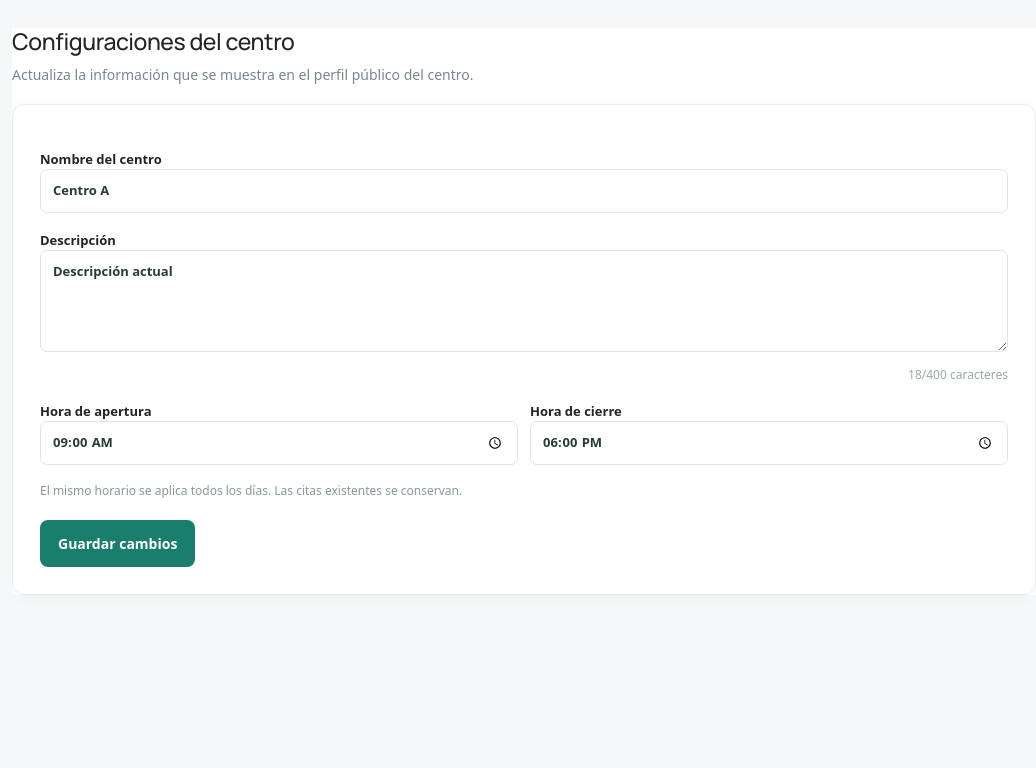
edits the public profile and reports the saved center to the workspace
Expected: the time field labelled "Hora de apertura" holds "09:00", [40,421,518,465]
Replace the text in the field labelled "Nombre del centro" with "Nuevo nombre" at (524, 191), box [40,169,1008,213]
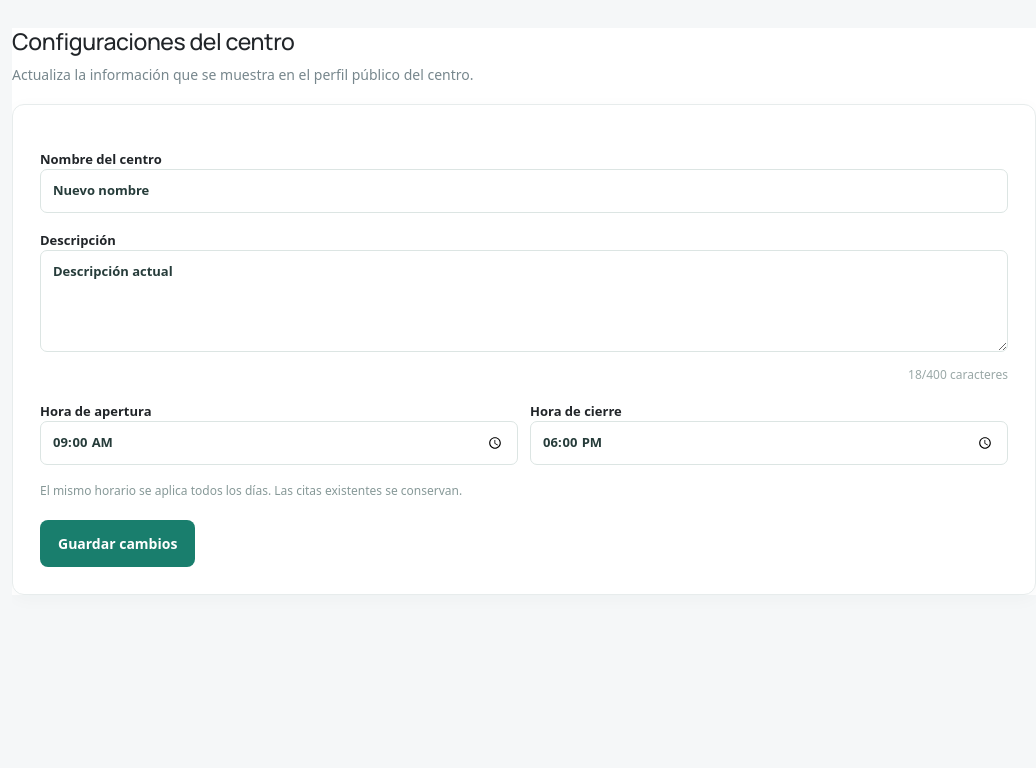
Replace the text in the text box labelled "Descripción" with "Nueva descripción" at (524, 301), box [40,250,1008,352]
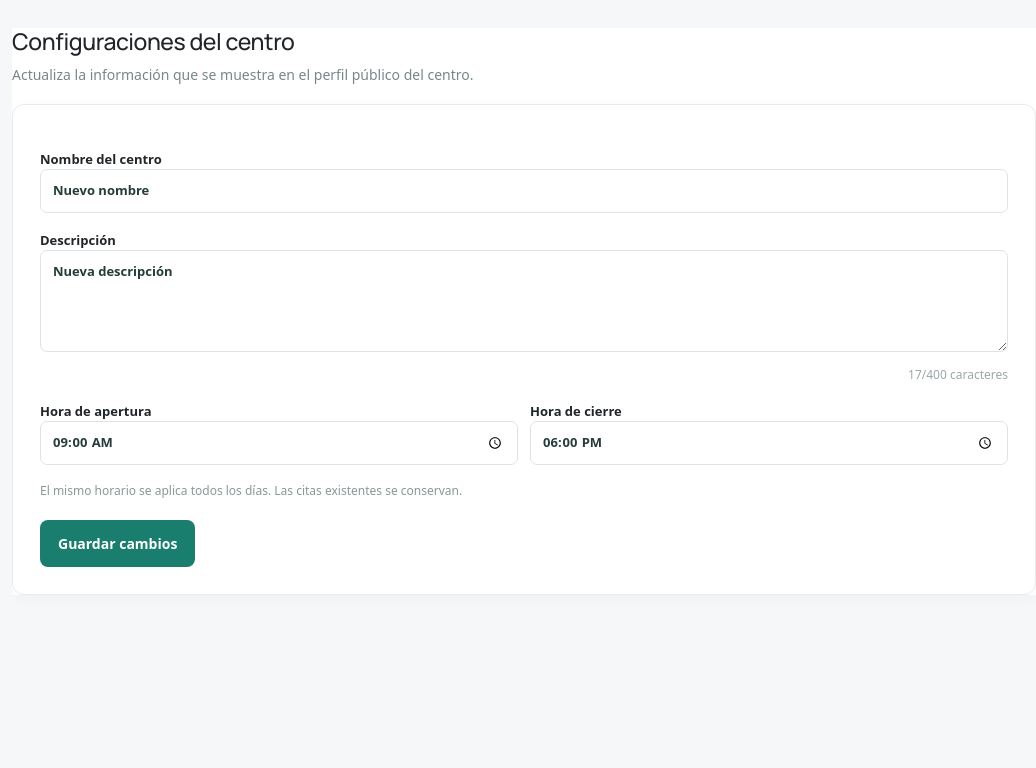
Replace the text in the time field labelled "Hora de apertura" with "08:30" at (279, 443), box [40,421,518,465]
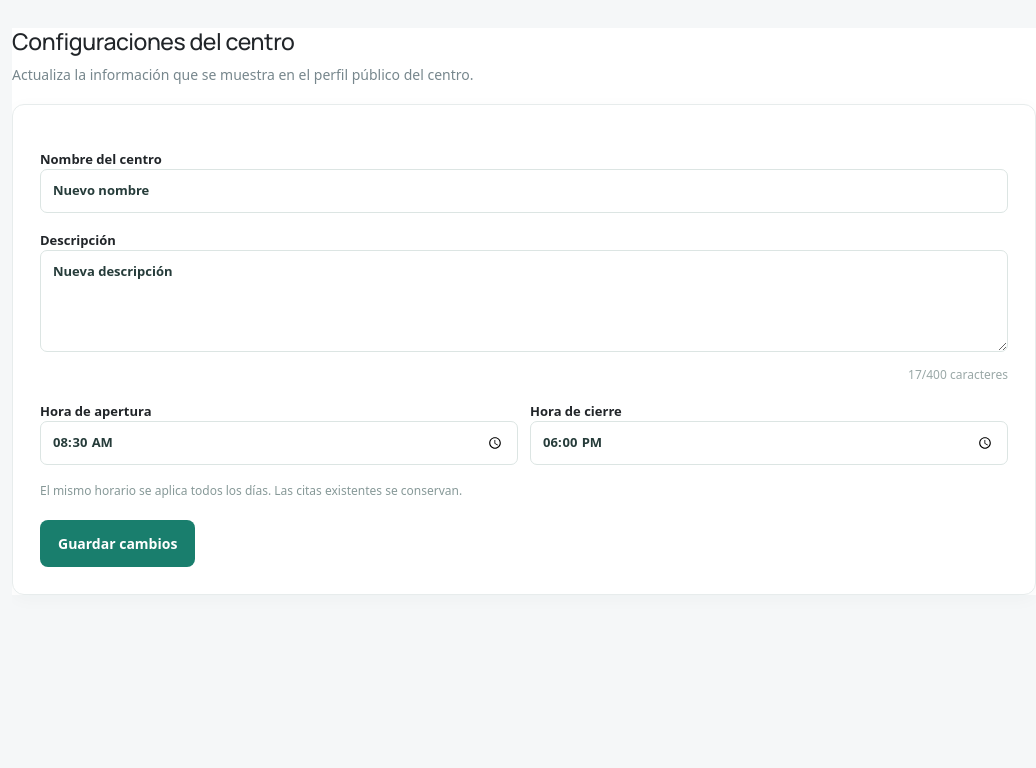
Replace the text in the time field labelled "Hora de cierre" with "19:00" at (769, 443), box [530,421,1008,465]
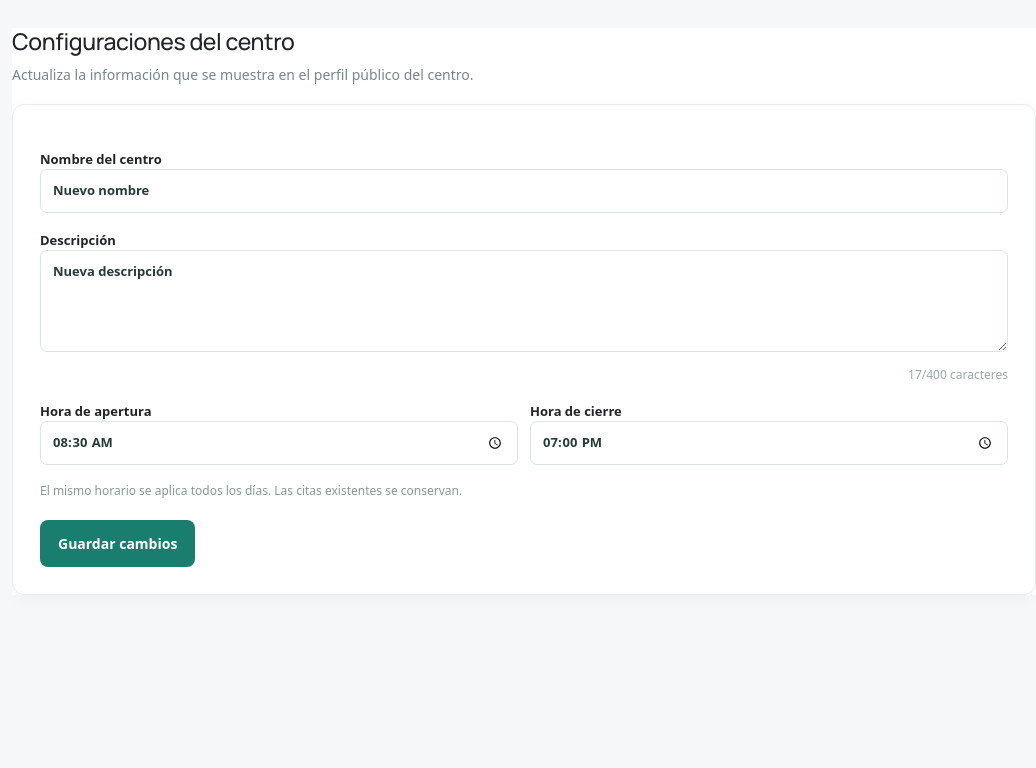
Click the button "Guardar cambios" at (118, 543), box [40,520,195,567]
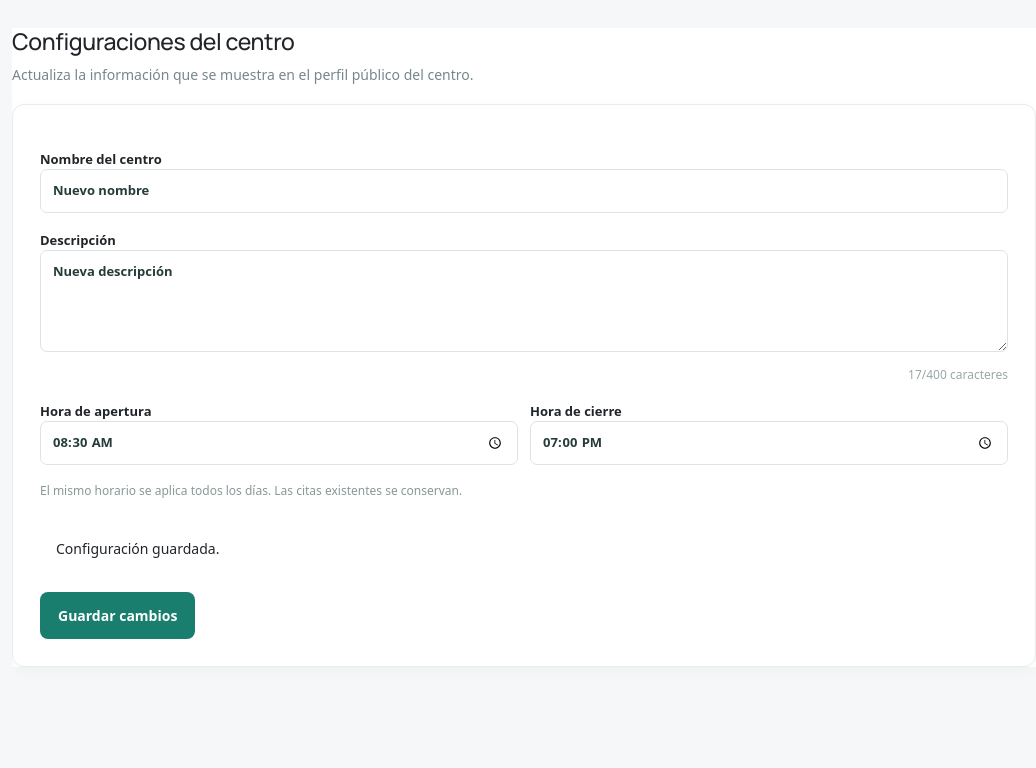
Expected: the text "Configuración guardada." is shown, [56,539,219,558]
